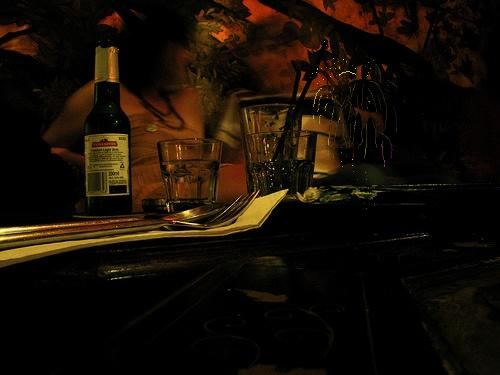tampered: (311, 42, 397, 210)
